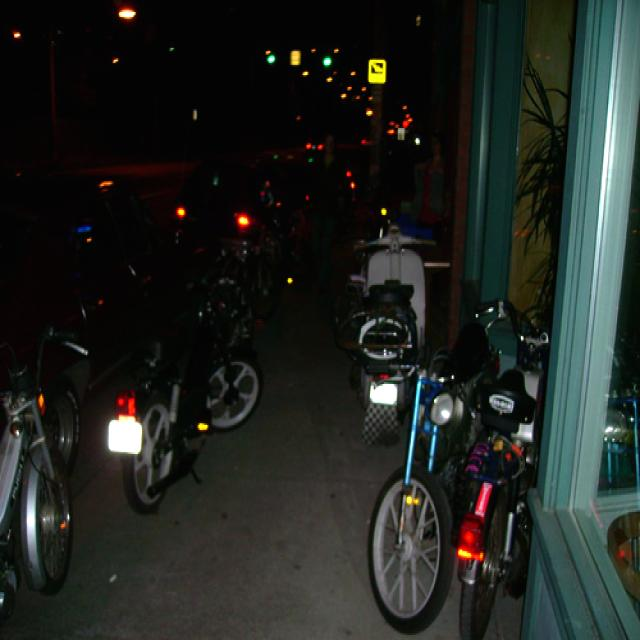Motorbike: (109, 252, 264, 515)
